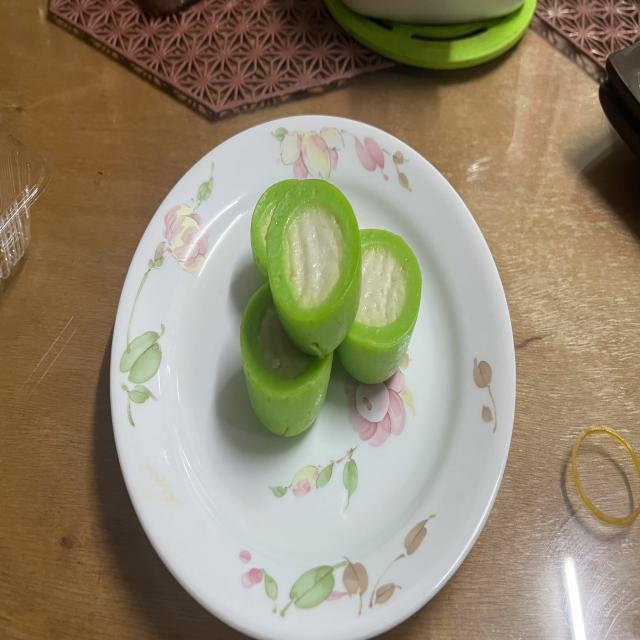nona-manis: (266, 180, 361, 358), (240, 282, 332, 436), (338, 229, 421, 384), (250, 180, 299, 284)
